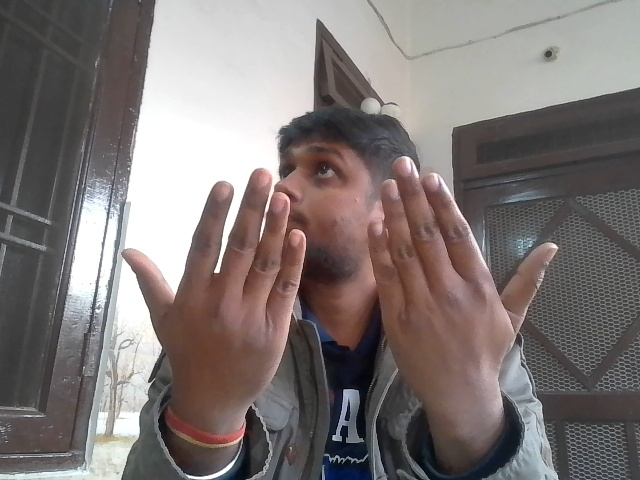ThankYou: (109, 160, 569, 408)
